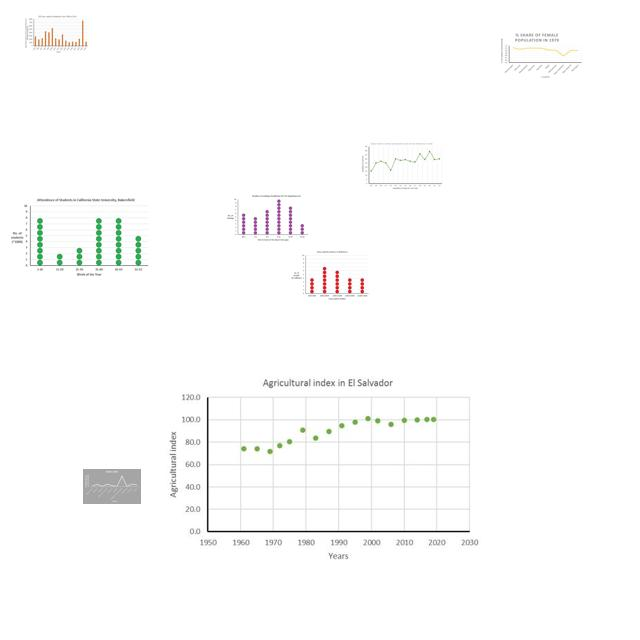Graph: (160, 371, 483, 562), (8, 196, 151, 279), (224, 193, 310, 243), (289, 249, 370, 302), (360, 141, 444, 192), (499, 31, 584, 81), (24, 15, 89, 53), (83, 469, 141, 504)
